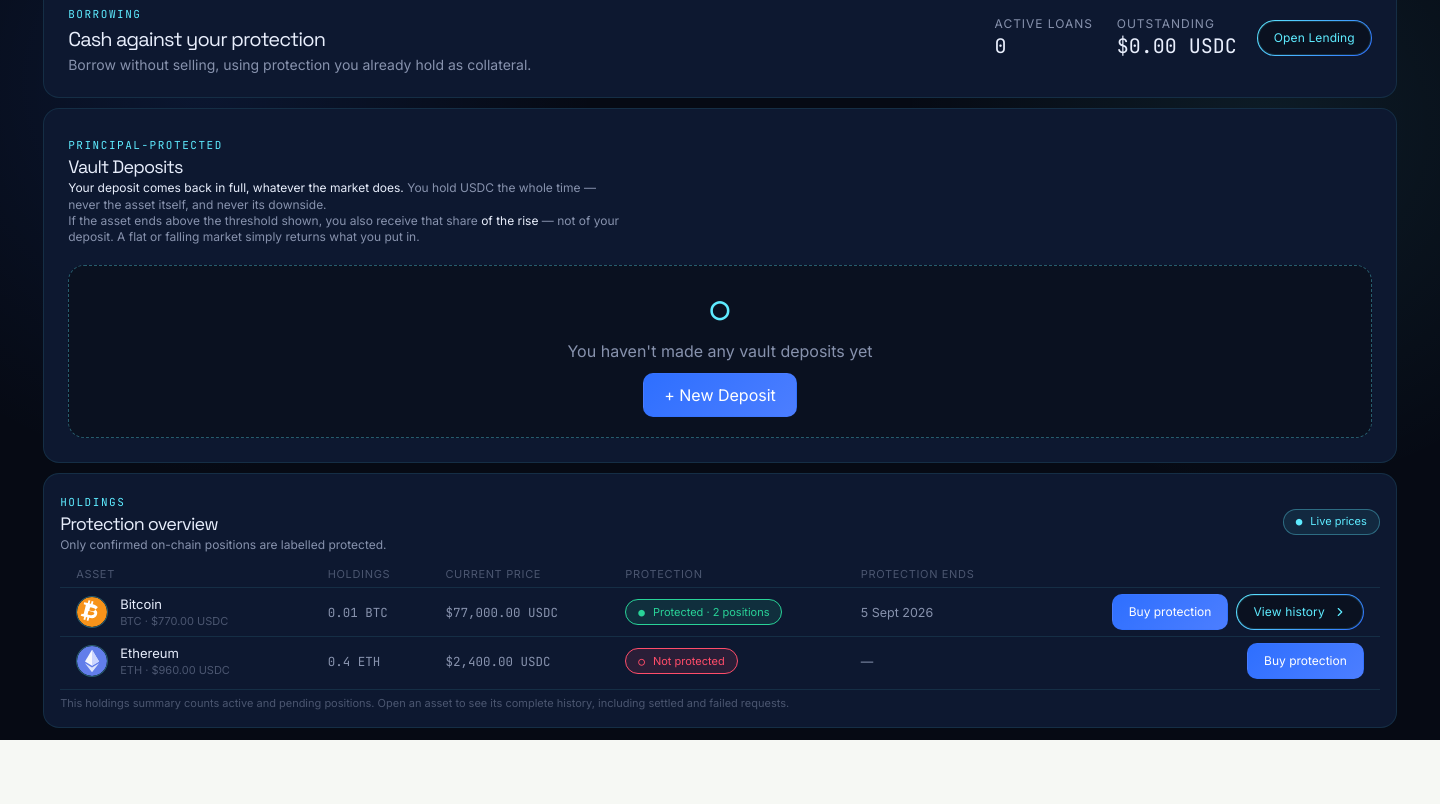
Test: Phase 6 pages › shows truthful buy and history actions and excludes cash from protection rows
(page scrolled)
Expected: the number of rows is 3, [60,561,1380,588]; [60,588,1380,637]; [60,637,1380,685]
Expected: the text "Protected · 2 positions" is shown, [653,607,769,618]
Click the button "View history": [1300, 612] box [1236,594,1364,630]
(page scrolled)
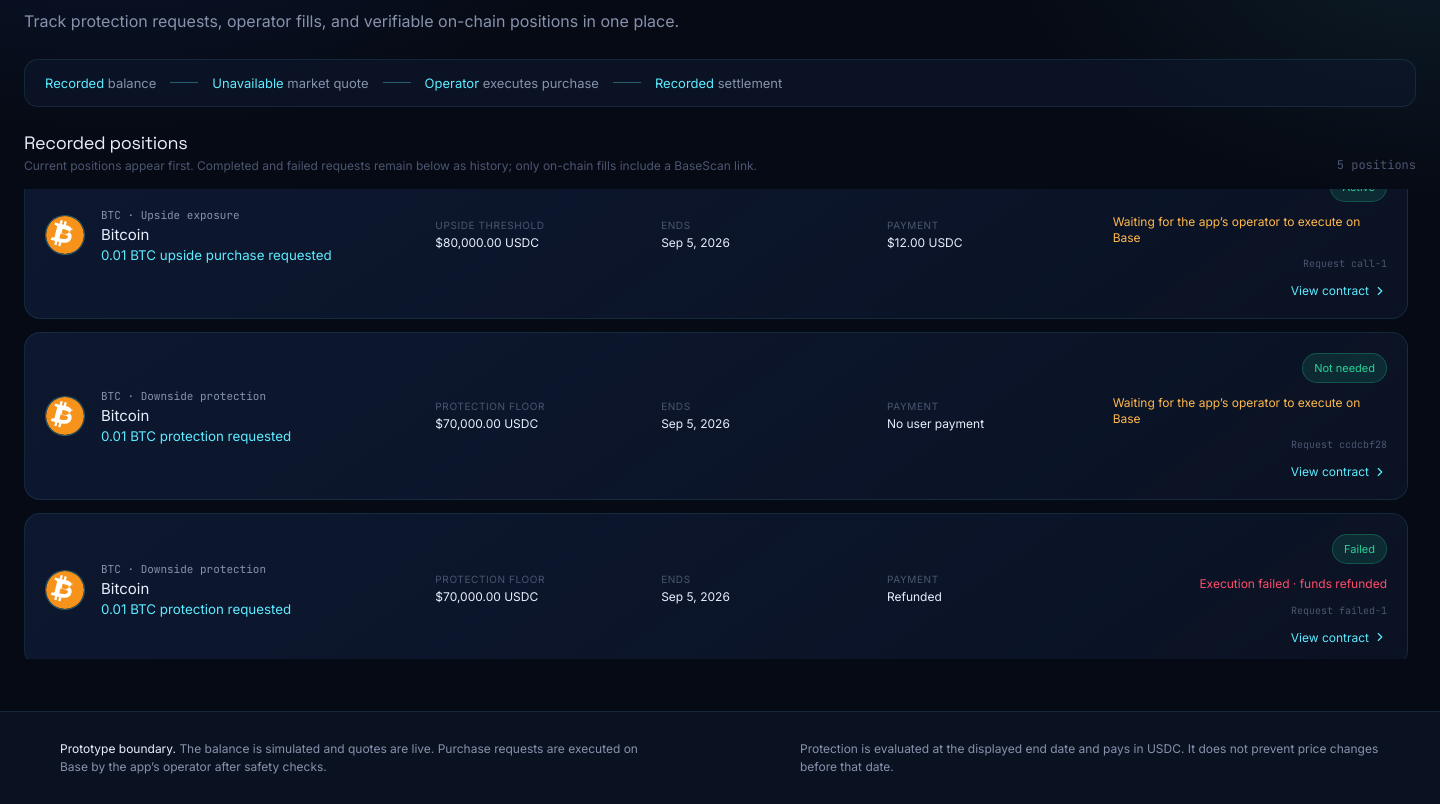
Expected: the heading "Recorded positions" is shown, [24,131,187,154]
Expected: the text "5 positions" is shown, [1337,157,1416,173]
Expected: the text "Not needed" is shown, [1302,353,1387,383]
